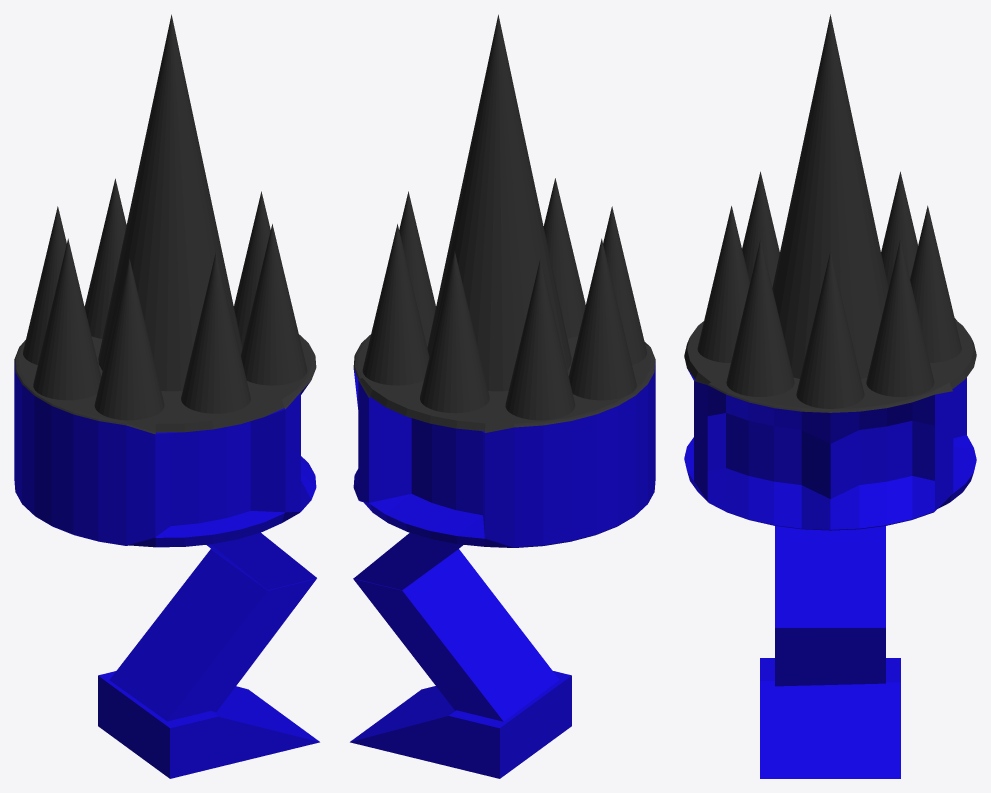
File: JumperEnemy.fbx
The picture shows the model from 3 angles, left to right: view 1: azimuth 30°, elevation 25°; view 2: azimuth 150°, elevation 25°; view 3: azimuth 270°, elevation 25°; orthographic projection. The views are drawn at different scales.
Visible parts, largest first — view 1: Cylinder; view 2: Cylinder; view 3: Cylinder.
Part boxes in pixels (<box>): Cylinder: <box>14,14,319,778</box>; Cylinder: <box>350,14,655,778</box>; Cylinder: <box>684,14,976,778</box>.
Size of the model in its own units: 164 by 436 by 162.
